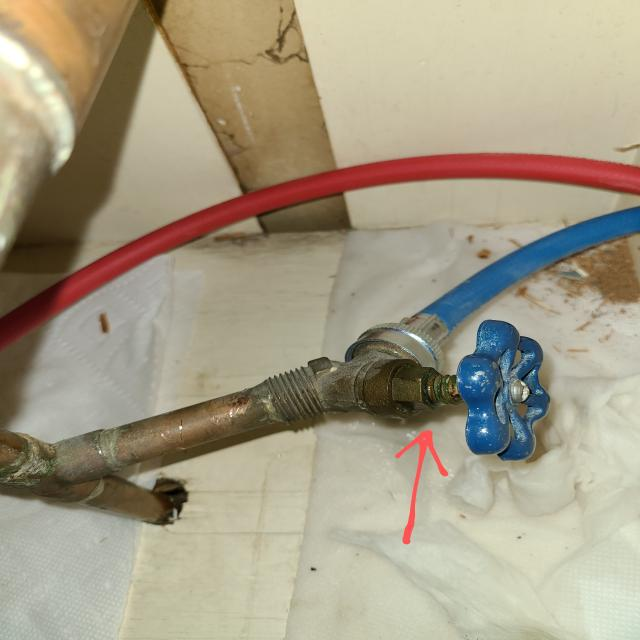Wheel Handle Valve Threaded: (446, 312, 566, 477)
